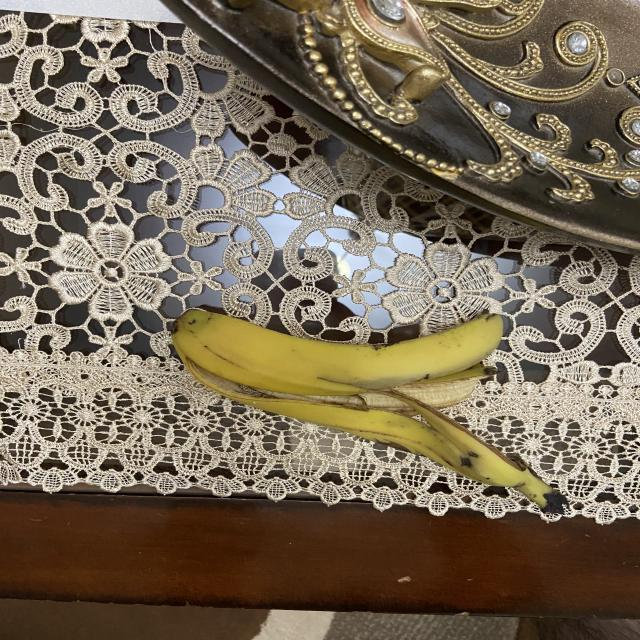banana-peel: (169, 304, 566, 515), (170, 304, 504, 400)
